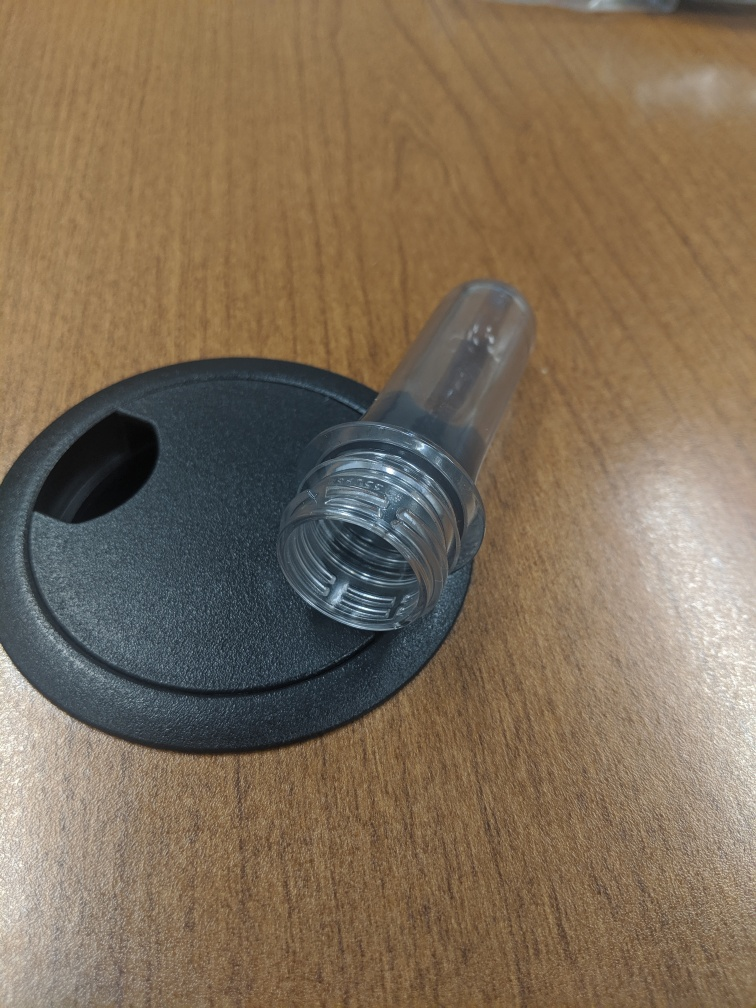preform: (270, 268, 539, 640)
